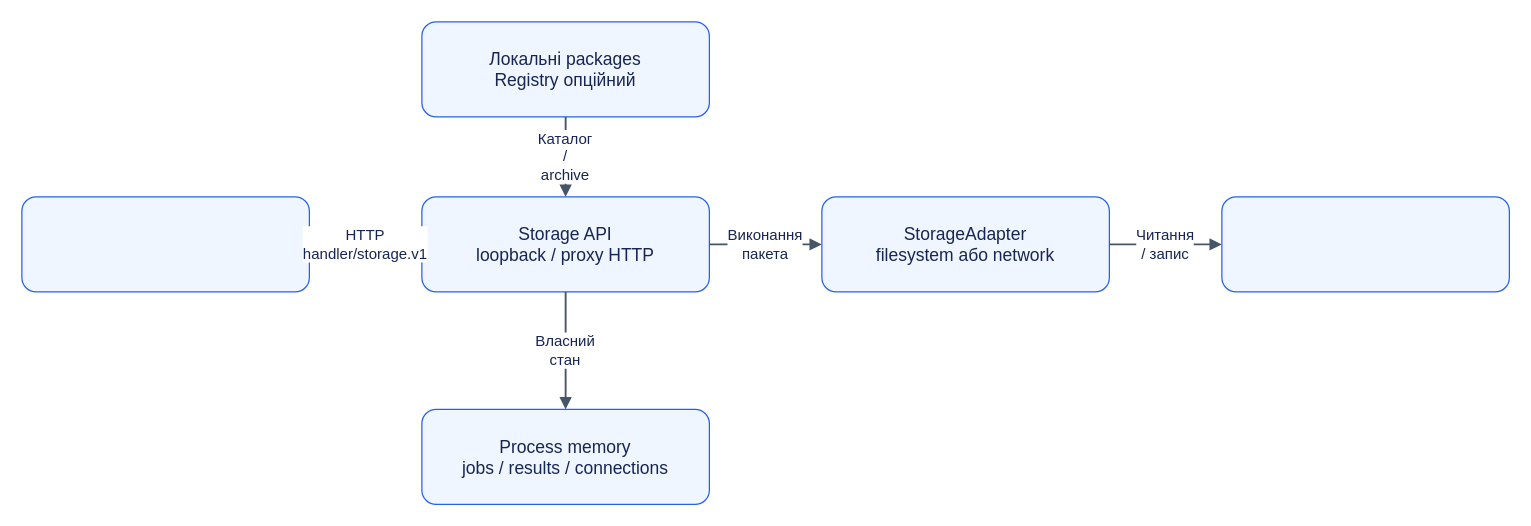
Some shapes in this 1531 by 526 pixel diagram are drawn without their labels. Here are the shapes that lost their labels. From the top down, the centre of each, then its label:
At (x=165, y=244): "Сторонній клієнт або Orchestrator".
At (x=1365, y=244): "Власні постійні дані RAW / entities / history".
